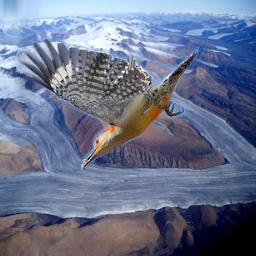Woodpecker: (16, 36, 199, 172)
